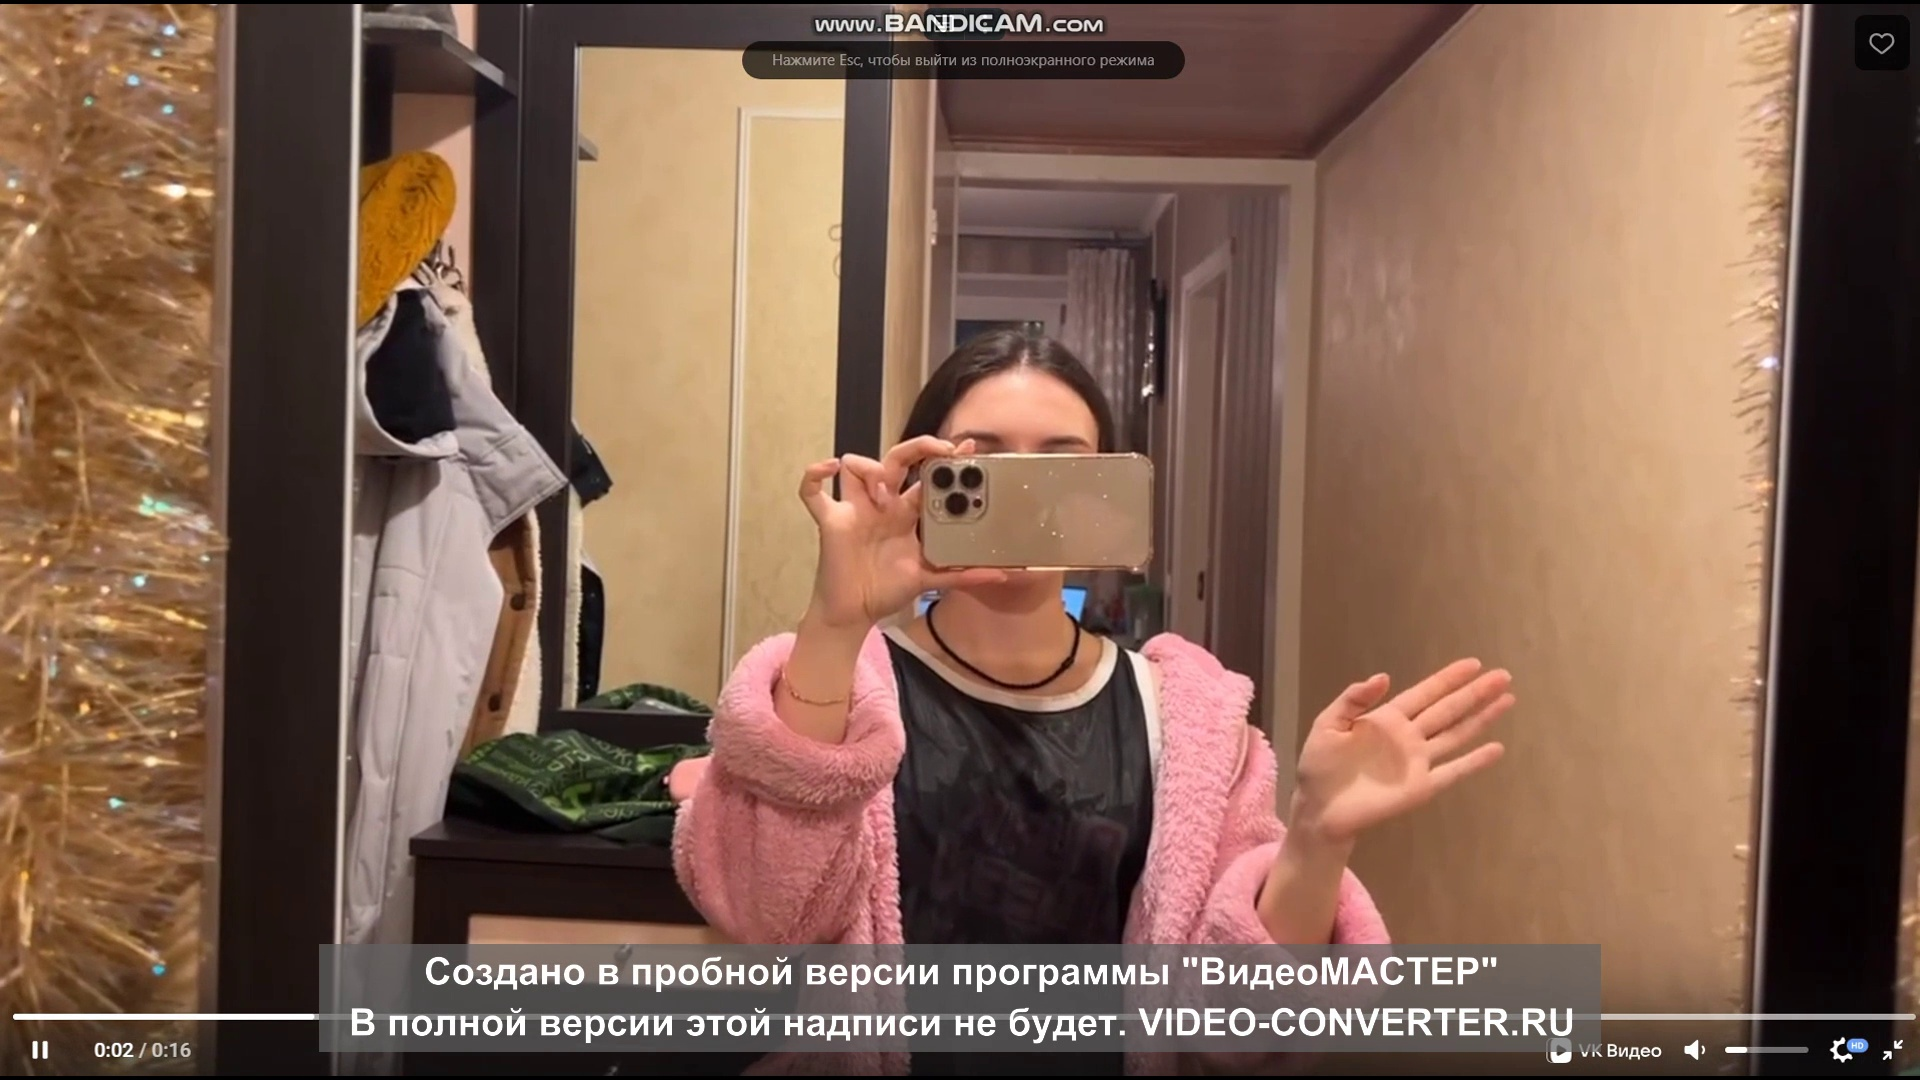Ладонь: (1294, 655, 1519, 837)
